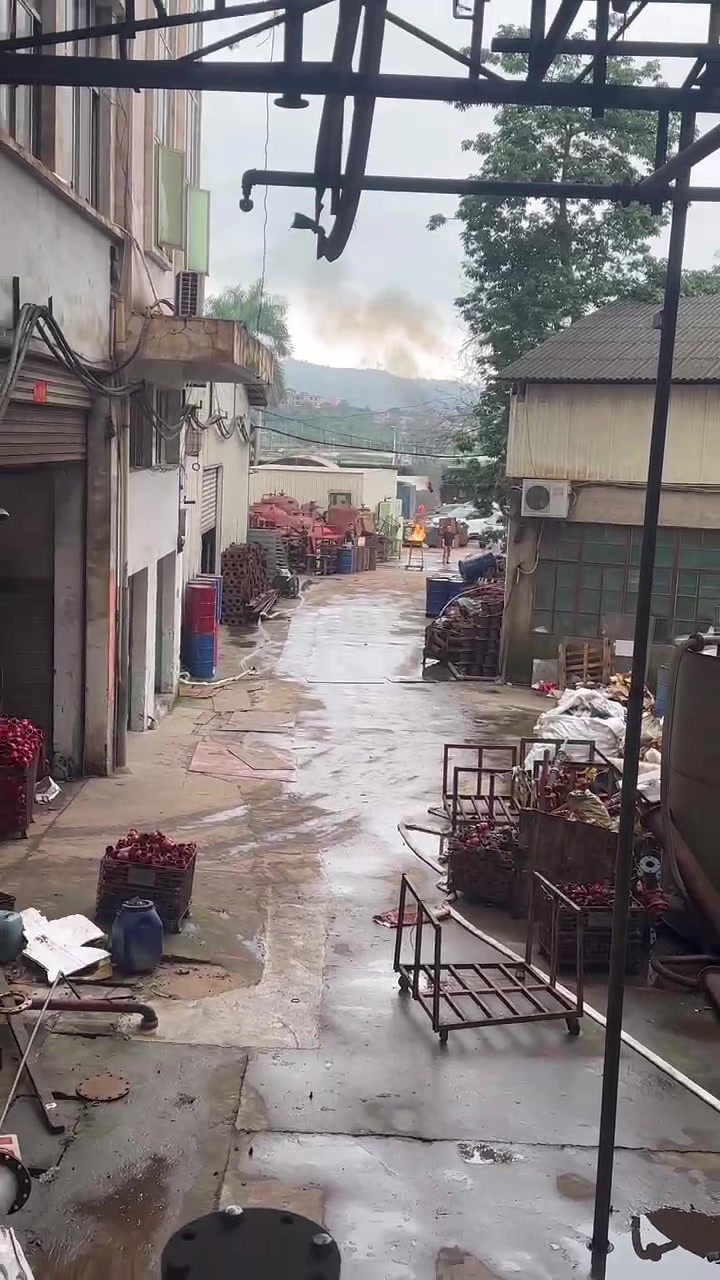fire: (408, 523, 424, 540)
